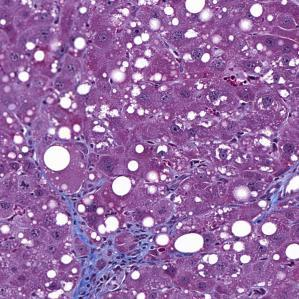fibrosis: (53, 198, 158, 297)
